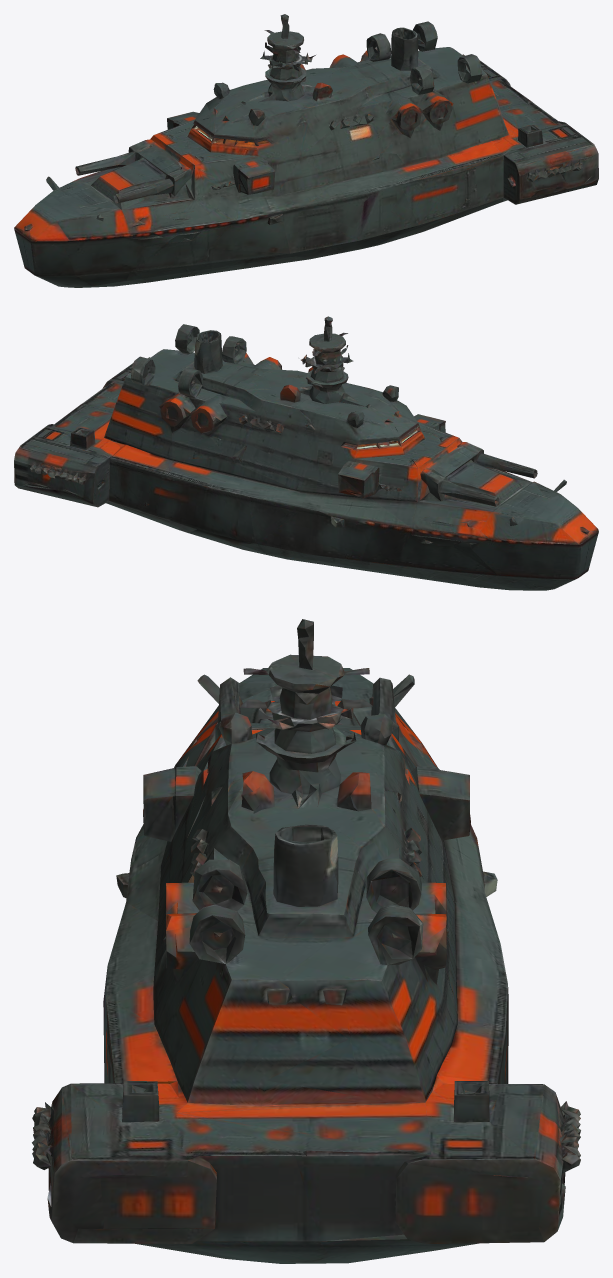
Rendered from nation-b-cruiser.glb.
The picture shows the model from 3 angles, top to bottom: view 1: azimuth 30°, elevation 25°; view 2: azimuth 150°, elevation 25°; view 3: azimuth 270°, elevation 25°; orthographic projection. The views are drawn at different scales.
Size of the model in its own units: 1.89 by 0.7944 by 0.8732.
1 material, 1 textured.
